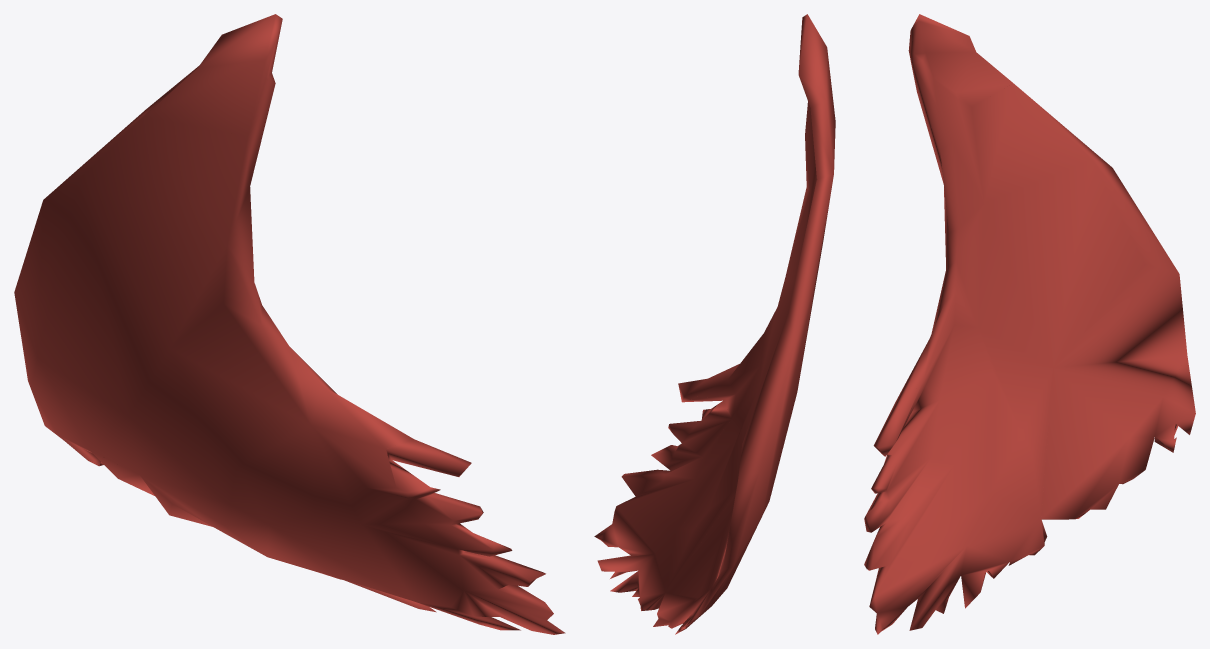
The model's file is musculos-depressor-anguli-oris-r.glb.
3 views of the same model, side by side, from view 1: azimuth 30°, elevation 25°; view 2: azimuth 150°, elevation 25°; view 3: azimuth 270°, elevation 25° (orthographic). The views are drawn at different scales.
Visible parts, largest first — view 1: Depressor anguli oris.r; view 2: Depressor anguli oris.r; view 3: Depressor anguli oris.r.
Part boxes in pixels (bbox=[...]): Depressor anguli oris.r: bbox=[14, 14, 565, 634]; Depressor anguli oris.r: bbox=[594, 14, 835, 634]; Depressor anguli oris.r: bbox=[864, 14, 1195, 634].
Size of the model in its own units: 0.0241 by 0.0417 by 0.0238.
